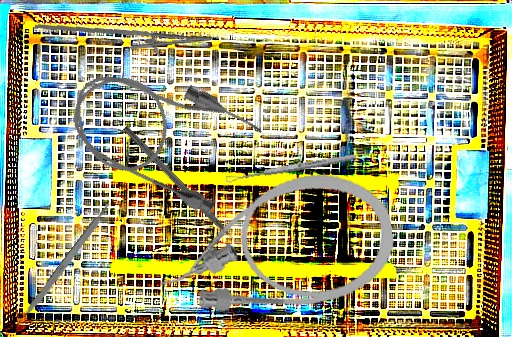Cannula: (147, 164, 402, 328), (54, 44, 268, 223)
Hook Surgical: (121, 124, 250, 257)
Needle Holder: (35, 14, 213, 64)
Scalpel Handle: (21, 201, 115, 320)
Surgical Spoon: (225, 152, 357, 184)
